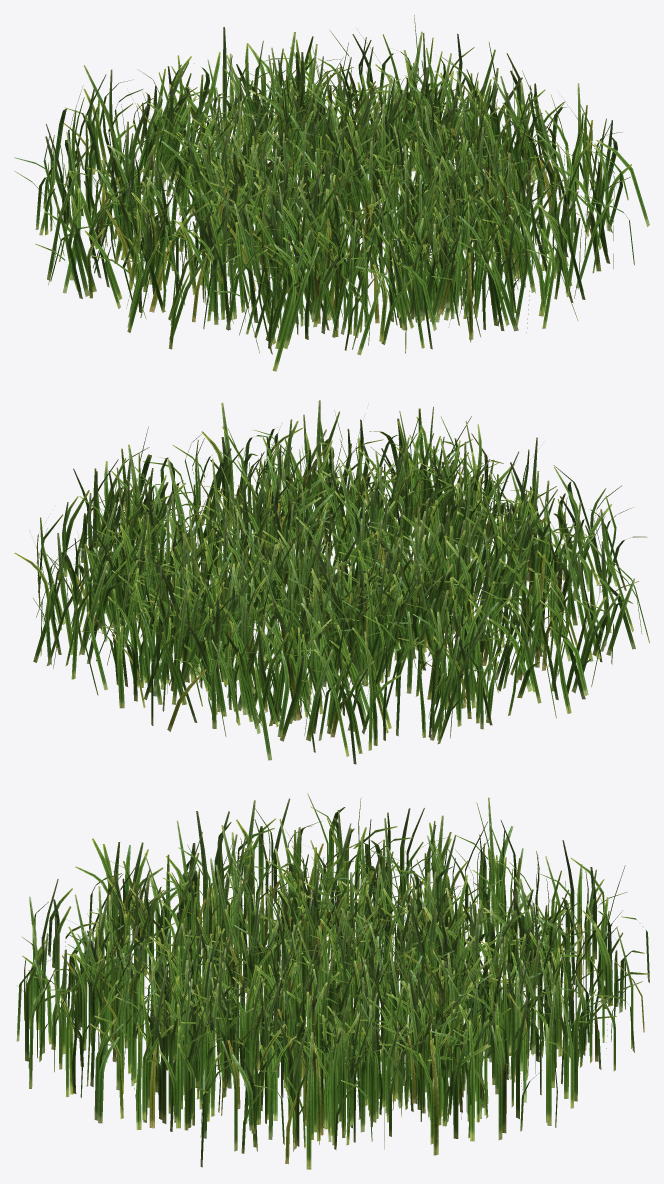
File: foliage_set5_008.FBX
3 views of the same model, one above another, from view 1: azimuth 30°, elevation 25°; view 2: azimuth 150°, elevation 25°; view 3: azimuth 270°, elevation 25° (orthographic). The views are drawn at different scales.
Parts seen in each view (by area): view 1: 008; view 2: 008; view 3: 008.
Part boxes in pixels (<box>): 008: <box>14,15,649,371</box>; 008: <box>14,400,649,764</box>; 008: <box>16,793,649,1169</box>.
Bounding box in the file's own units: 3.6 × 0.8284 × 3.41.
Materials: 1 (1 with a texture image).
